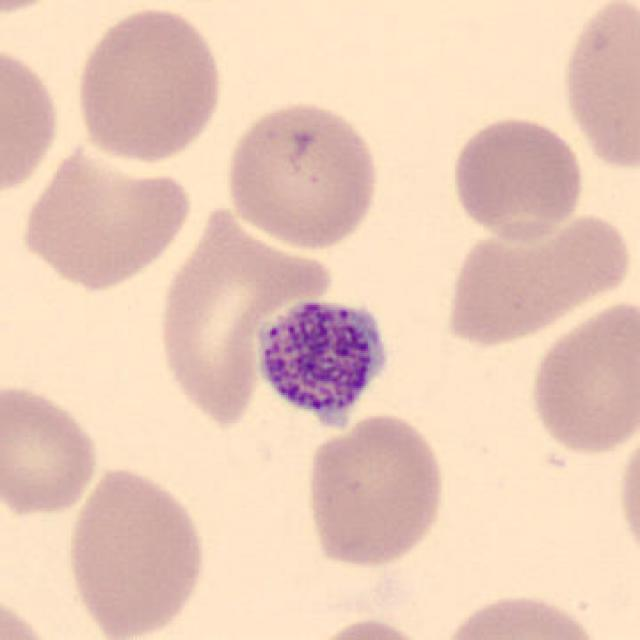Platelets: (247, 287, 397, 439)
RBC: (151, 199, 333, 436), (439, 206, 635, 349), (14, 139, 196, 293), (60, 462, 212, 638), (70, 4, 228, 168), (220, 97, 384, 252), (300, 409, 450, 571), (524, 293, 638, 460), (446, 111, 588, 243), (556, 0, 639, 176), (0, 379, 103, 520), (0, 37, 66, 203), (436, 589, 608, 640), (611, 411, 640, 573), (299, 613, 441, 640), (0, 590, 58, 640), (0, 0, 76, 19)
